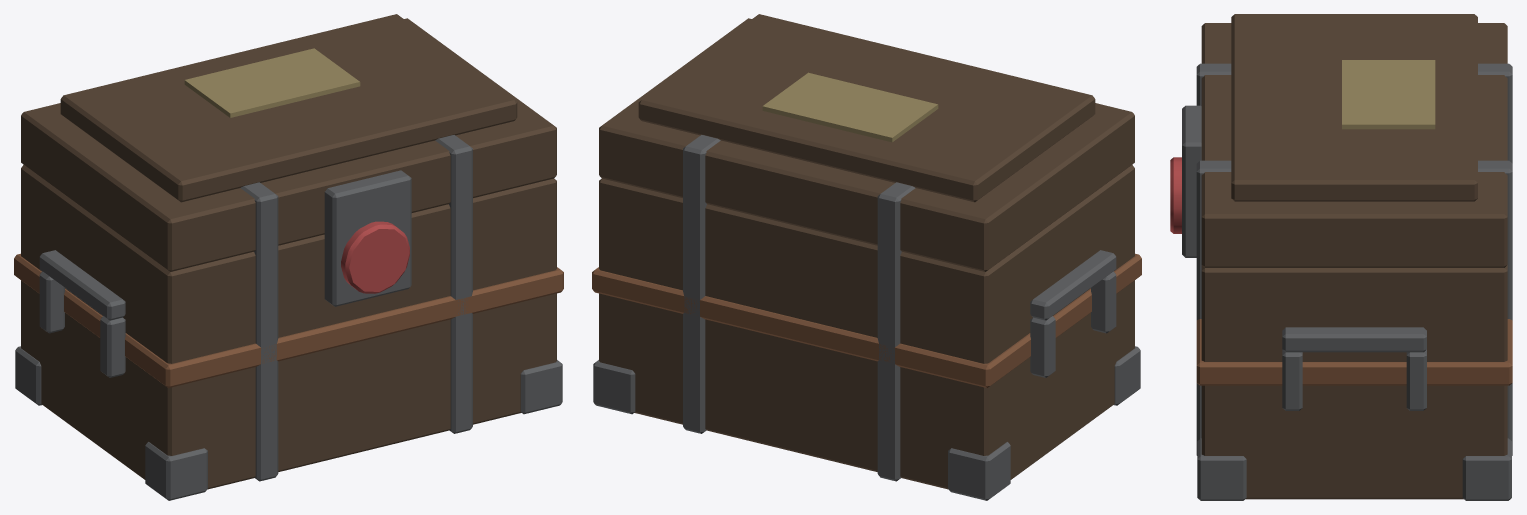
Rendered from Objective.fbx.
3 views of the same model, side by side, from view 1: azimuth 30°, elevation 25°; view 2: azimuth 150°, elevation 25°; view 3: azimuth 270°, elevation 25° (orthographic). The views are drawn at different scales.
Parts seen in each view (by area): view 1: Objective; view 2: Objective; view 3: Objective.
Part boxes in pixels (box(x1,y1,x2,y2)): Objective: box(14, 14, 563, 500); Objective: box(592, 14, 1141, 500); Objective: box(1170, 14, 1512, 500).
Bounding box in the file's own units: 59.8 × 40.7 × 40.3.
